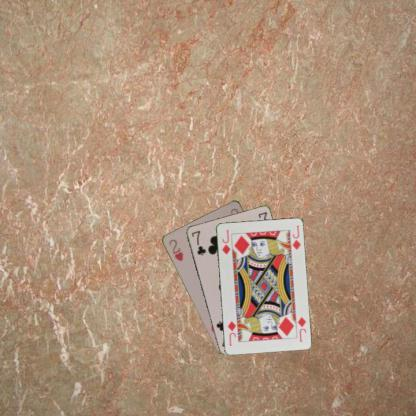2h: (166, 236, 184, 263)
7c: (189, 228, 207, 257)
Jd: (219, 227, 231, 255), (295, 314, 306, 342)
